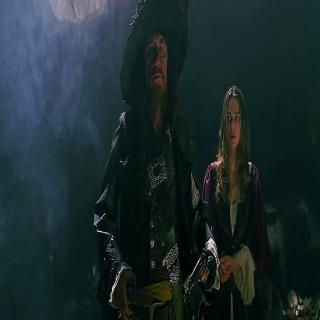gun: (178, 244, 224, 303)
